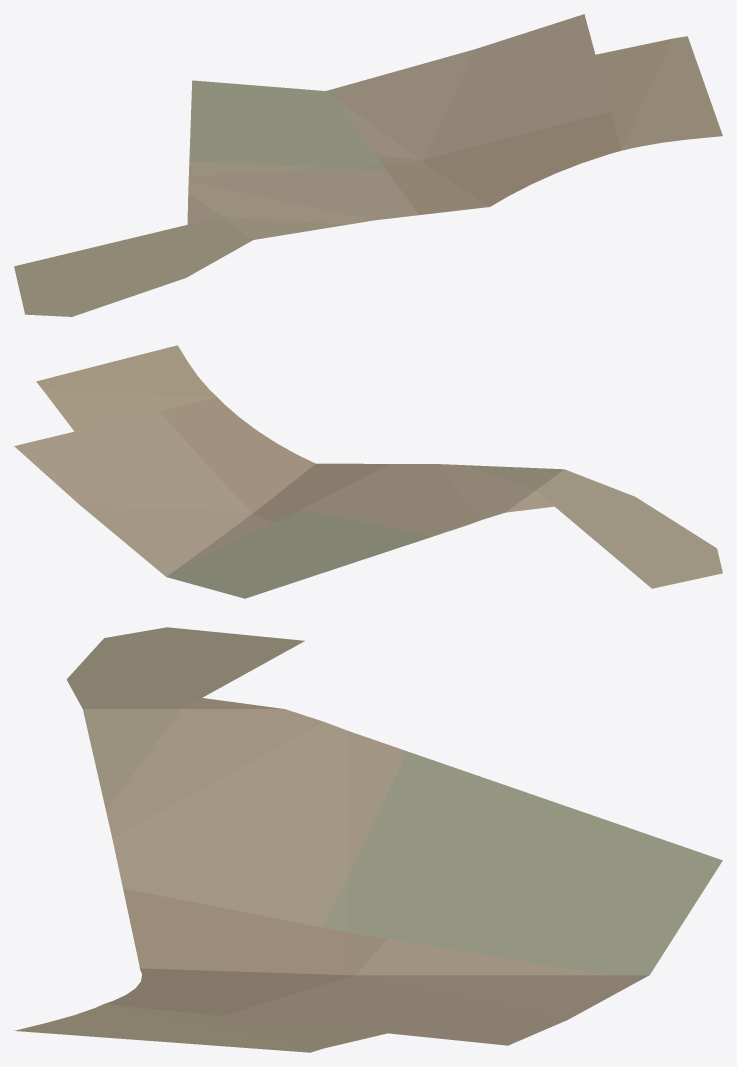
Rendered from farm_-1_20_soil.glb.
3 renders of one model, top to bottom at view 1: azimuth 30°, elevation 25°; view 2: azimuth 150°, elevation 25°; view 3: azimuth 270°, elevation 25°, orthographic. The views are drawn at different scales.
Parts seen in each view (by area): view 1: geometry_0; view 2: geometry_0; view 3: geometry_0.
Boxes of the visible parts, bbox=[...] form: geometry_0: bbox=[14, 14, 722, 316]; geometry_0: bbox=[14, 345, 722, 598]; geometry_0: bbox=[14, 627, 722, 1052].
Size of the model in its own units: 222 by 21.97 by 124.
